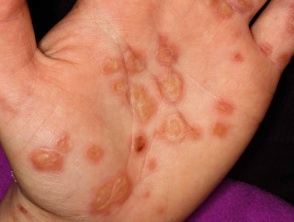SJS-TEN: (80, 34, 245, 222), (23, 121, 88, 187), (198, 0, 257, 26)
